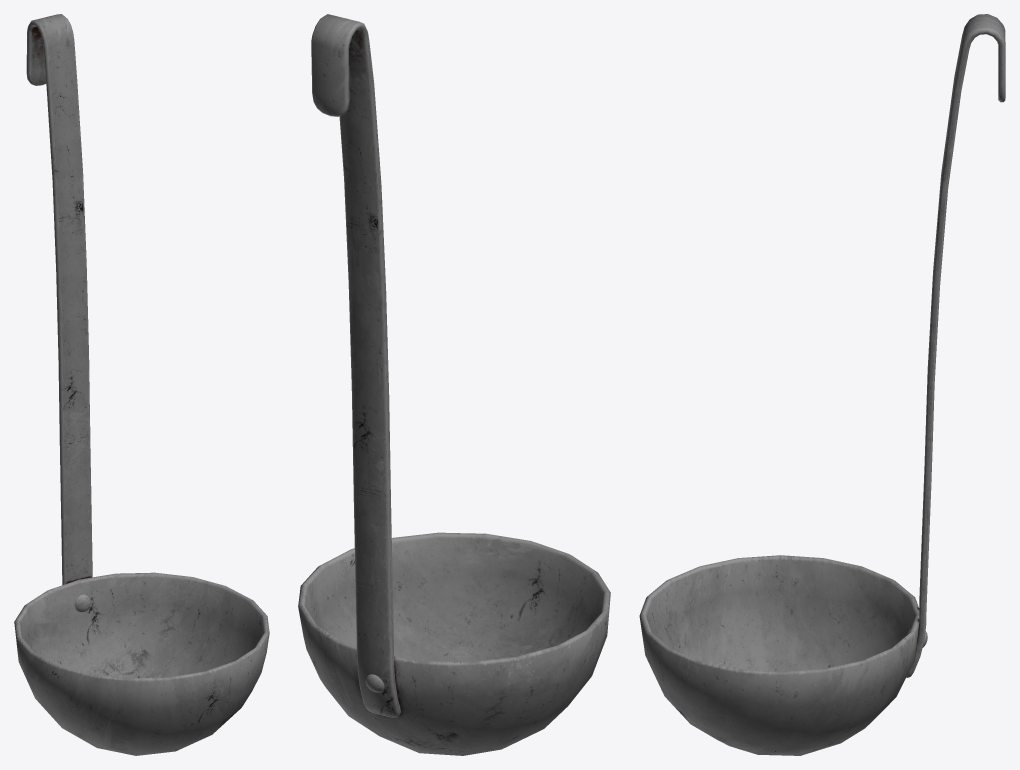
File: Ladle.FBX
3 renders of one model, left to right at view 1: azimuth 30°, elevation 25°; view 2: azimuth 150°, elevation 25°; view 3: azimuth 270°, elevation 25°, orthographic. The views are drawn at different scales.
Parts seen in each view (by area): view 1: Ladle; view 2: Ladle; view 3: Ladle.
Part boxes in pixels (x1,y1,x2,y2): Ladle: (14, 14, 269, 755); Ladle: (298, 14, 610, 755); Ladle: (639, 14, 1005, 755).
Size of the model in its own units: 17.56 by 49.61 by 22.74.
